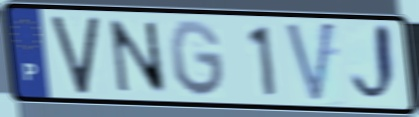1: (246, 24, 279, 99)
G: (167, 17, 228, 100)
J: (348, 21, 402, 108)
N: (106, 17, 170, 96)
V: (282, 19, 338, 108), (48, 14, 102, 97)
